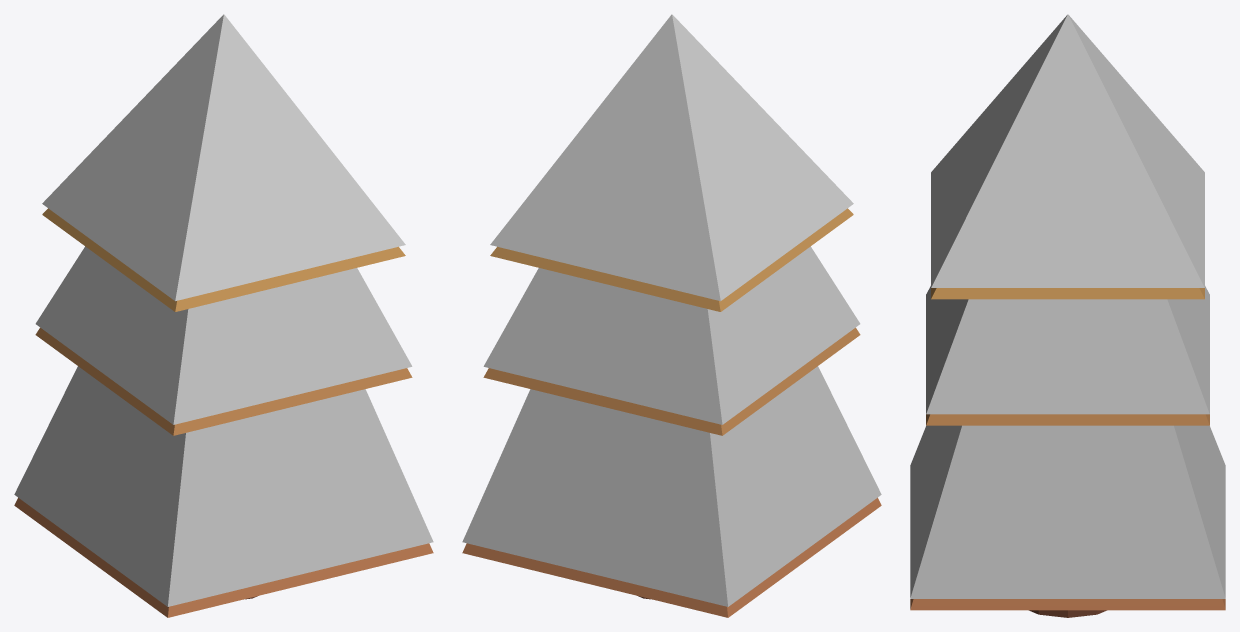
Rendered from Tree_18_winter_gradient_yellow_vc.fbx.
The picture shows the model from 3 angles, left to right: view 1: azimuth 30°, elevation 25°; view 2: azimuth 150°, elevation 25°; view 3: azimuth 270°, elevation 25°; orthographic projection. The views are drawn at different scales.
Visible parts, largest first — view 1: Tree_18_winter_gradient_yellow_vc; view 2: Tree_18_winter_gradient_yellow_vc; view 3: Tree_18_winter_gradient_yellow_vc.
Boxes of the visible parts, x1,y1,x2,y2 form: Tree_18_winter_gradient_yellow_vc: [14, 14, 433, 617]; Tree_18_winter_gradient_yellow_vc: [462, 14, 881, 617]; Tree_18_winter_gradient_yellow_vc: [910, 14, 1225, 617].
Size of the model in its own units: 95.96 by 194 by 95.96.
